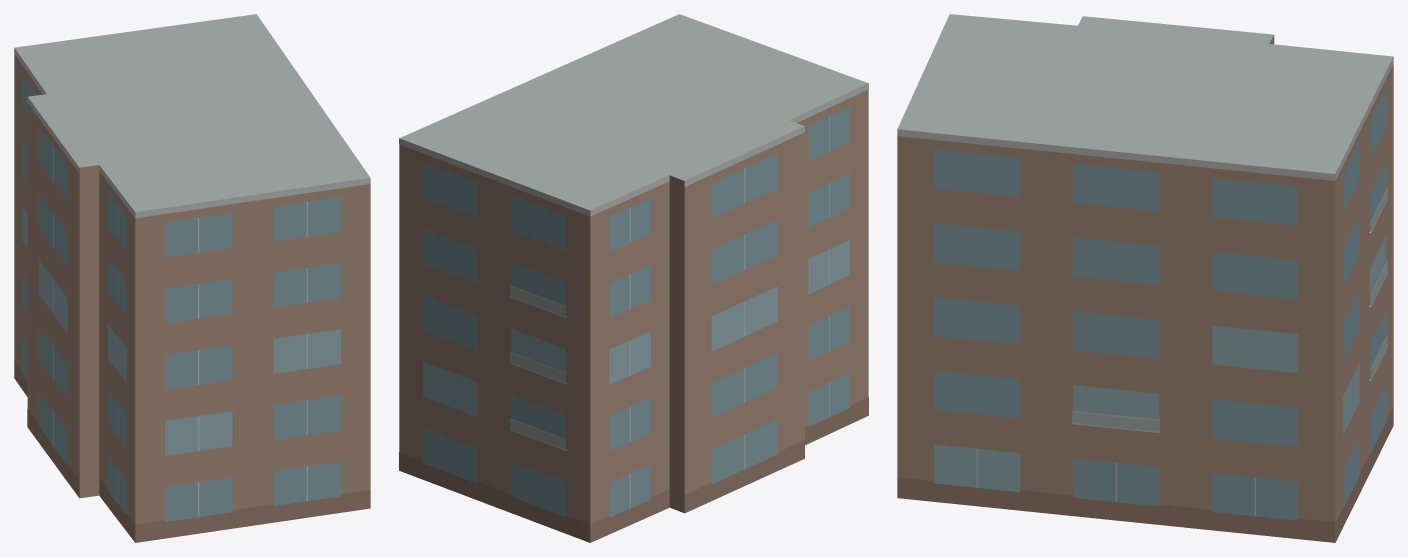
The model's file is survey-upis-32893390.glb.
3 views of the same model, side by side, from view 1: azimuth 30°, elevation 25°; view 2: azimuth 150°, elevation 25°; view 3: azimuth 270°, elevation 25° (orthographic). The views are drawn at different scales.
Visible parts, largest first — view 1: survey-upis-32893390.tmp; view 2: survey-upis-32893390.tmp; view 3: survey-upis-32893390.tmp.
Part boxes in pixels (left/top/right/bottom): survey-upis-32893390.tmp: left=14, top=14, right=370, bottom=542; survey-upis-32893390.tmp: left=399, top=14, right=868, bottom=542; survey-upis-32893390.tmp: left=897, top=14, right=1393, bottom=542.
Size of the model in its own units: 12.39 by 13.3 by 16.23.
